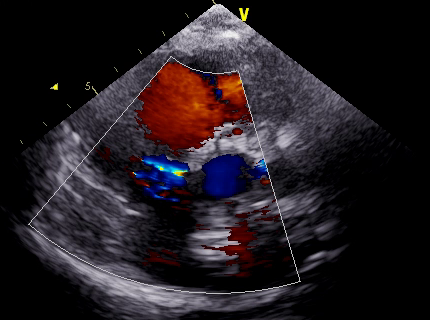TR: (128, 144, 206, 213)
